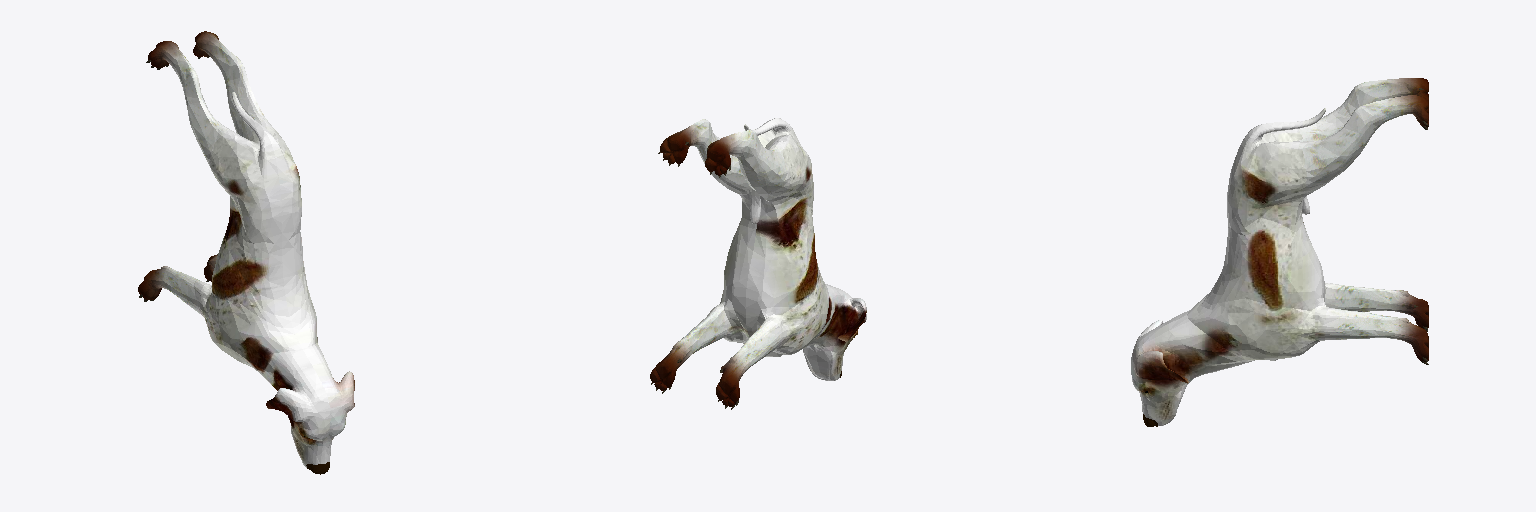
3 renders of one model, left to right at view 1: azimuth 30°, elevation 25°; view 2: azimuth 150°, elevation 25°; view 3: azimuth 270°, elevation 25°, orthographic.
Size of the model in its own units: 1368 by 4992 by 3981.
7 materials, 4 textured.